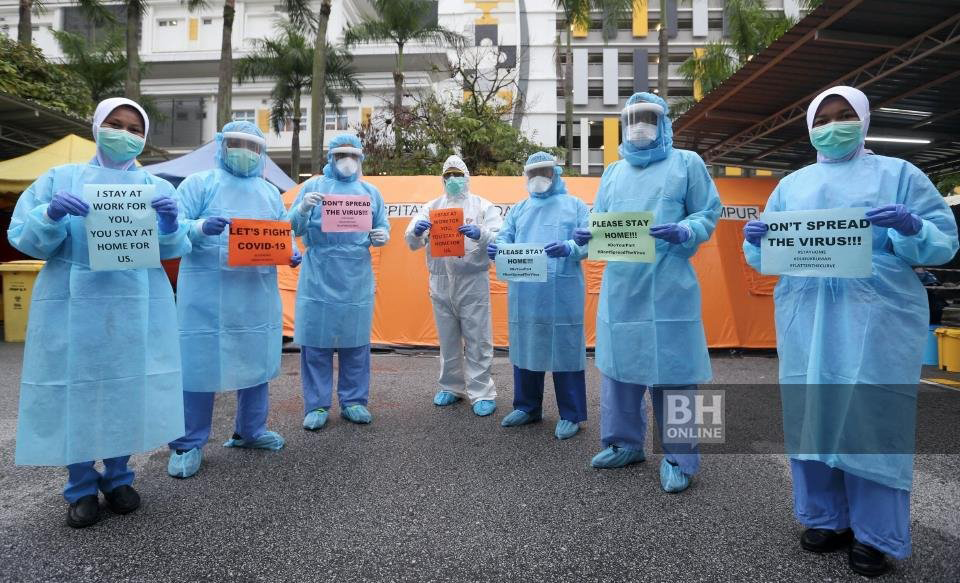Coverall: (765, 84, 941, 511), (24, 97, 180, 485), (592, 91, 722, 443), (169, 116, 283, 421), (292, 134, 390, 406), (502, 150, 593, 406), (415, 152, 505, 389)
Gloves: (868, 202, 921, 248), (40, 191, 91, 229), (646, 219, 690, 249), (147, 194, 179, 232), (738, 220, 772, 253), (194, 215, 233, 241), (292, 192, 326, 217), (542, 240, 570, 262), (572, 225, 594, 253), (368, 227, 391, 249), (412, 220, 435, 240), (459, 221, 480, 241)
with_mask: (96, 117, 146, 166), (812, 112, 865, 158), (621, 111, 657, 148), (224, 143, 262, 175), (440, 168, 468, 198), (332, 153, 360, 181), (526, 177, 555, 196)
